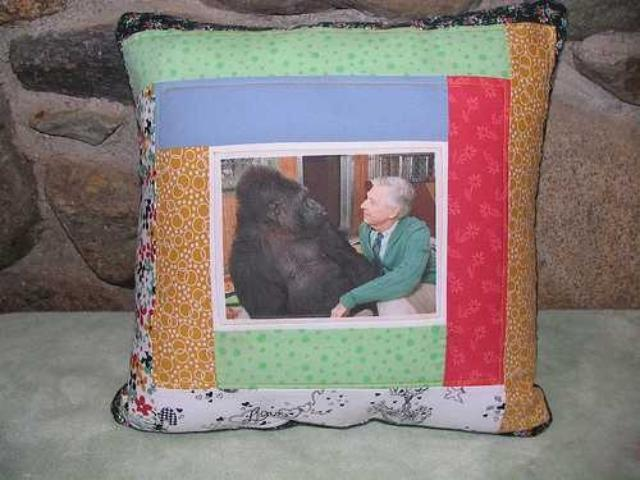pillow: (110, 4, 564, 436)
